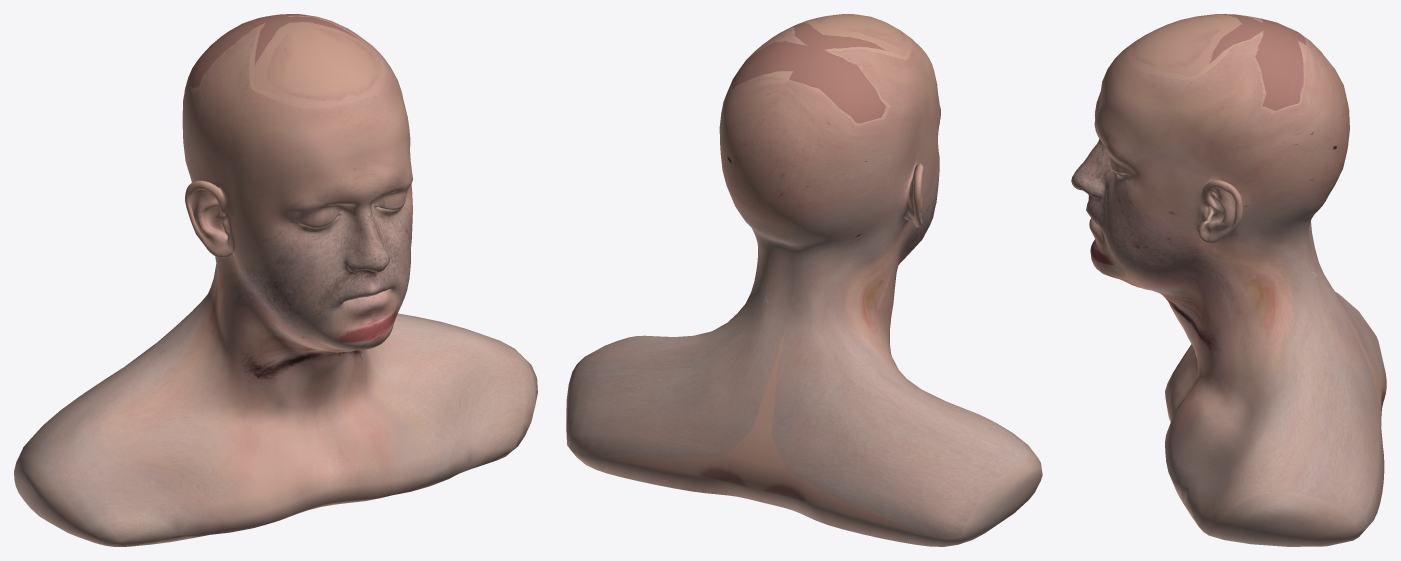
Rendered from head.glb.
3 renders of one model, left to right at view 1: azimuth 30°, elevation 25°; view 2: azimuth 150°, elevation 25°; view 3: azimuth 270°, elevation 25°, orthographic. The views are drawn at different scales.
Parts seen in each view (by area): view 1: head; view 2: head; view 3: head.
Part boxes in pixels (x1,y1,x2,y2): head: [14, 14, 537, 546]; head: [566, 14, 1042, 546]; head: [1071, 14, 1386, 546].
Bounding box in the file's own units: 35.92 × 33.37 × 21.76.
Materials: 1 (1 with a texture image).
